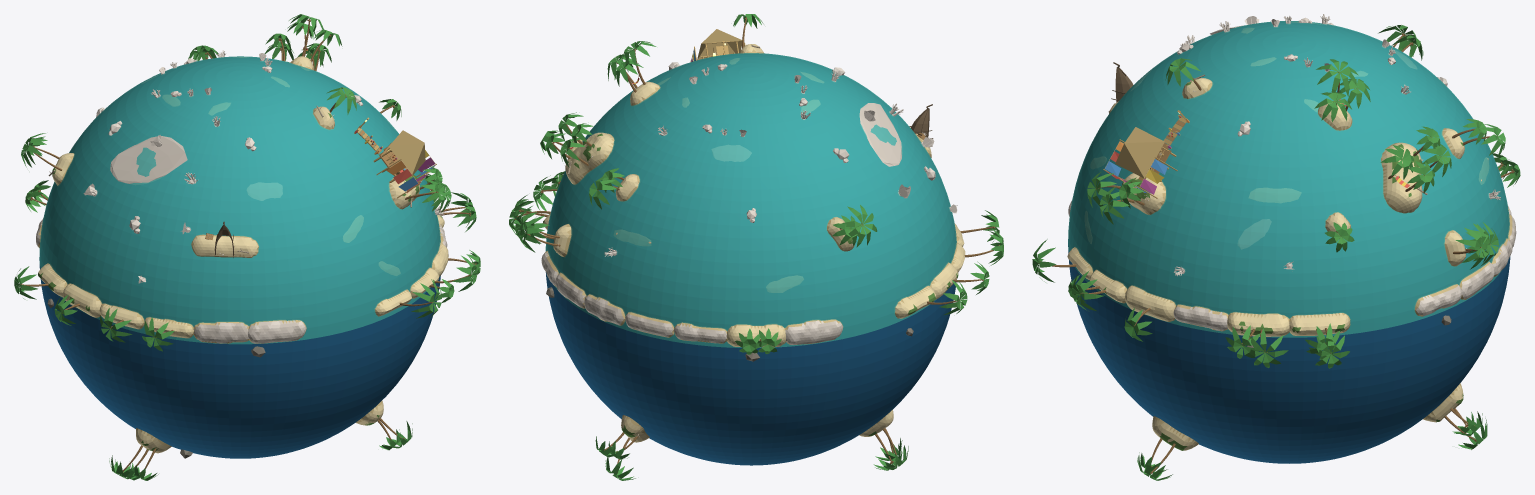
Rendered from w_004-reef.glb.
The picture shows the model from 3 angles, left to right: view 1: azimuth 30°, elevation 25°; view 2: azimuth 150°, elevation 25°; view 3: azimuth 270°, elevation 25°; orthographic projection. The views are drawn at different scales.
Parts seen in each view (by area): view 1: Sea_Lagoon, Water, Sea_Deep, Lagoon_Coral_Flat_01, Island_shipwreck-shoal, Island_ring-07, Marisol_House, Island_ring-08, Island_ring-11, Island_ring-10, Island_ring-09, Palm_08 (+7 smaller); view 2: Sea_Lagoon, Water, Sea_Deep, Lagoon_Coral_Flat_01, Island_palm-key-1, Island_ring-13, Island_ring-15, Island_ring-16, Island_ring-17, Island_ring-14, Marisol_House, Island_ring-12 (+3 smaller); view 3: Sea_Lagoon, Water, Sea_Deep, Island_palm-key-1, Marisol_House, Island_ring-02, Island_ring-01, Island_ring-04, Island_ring-03, Island_ring-19, Island_marisol-key, Island_far-key-2 (+19 smaller).
Part boxes in pixels (<box>): Sea_Lagoon: <box>39,56,440,344</box>; Water: <box>41,58,439,343</box>; Sea_Deep: <box>39,260,440,458</box>; Lagoon_Coral_Flat_01: <box>110,136,187,184</box>; Island_shipwreck-shoal: <box>191,234,258,257</box>; Island_ring-07: <box>248,320,306,343</box>; Marisol_House: <box>379,130,425,176</box>; Island_ring-08: <box>193,322,248,343</box>; Island_ring-11: <box>63,283,101,317</box>; Island_ring-10: <box>99,303,144,329</box>; Island_ring-09: <box>144,317,193,338</box>; Palm_08: <box>399,279,441,318</box>; Sea_Lagoon: <box>545,53,956,347</box>; Water: <box>547,54,955,347</box>; Sea_Deep: <box>545,272,955,465</box>; Lagoon_Coral_Flat_01: <box>859,103,901,166</box>; Island_palm-key-1: <box>565,132,614,184</box>; Island_ring-13: <box>785,319,843,345</box>; Island_ring-15: <box>674,322,727,343</box>; Island_ring-16: <box>625,312,674,337</box>; Island_ring-17: <box>584,294,625,325</box>; Island_ring-14: <box>726,324,785,347</box>; Marisol_House: <box>697,29,742,60</box>; Island_ring-12: <box>894,285,936,318</box>; Sea_Lagoon: <box>1068,21,1509,337</box>; Water: <box>1069,22,1508,336</box>; Sea_Deep: <box>1068,242,1510,463</box>; Island_palm-key-1: <box>1381,142,1422,213</box>; Marisol_House: <box>1115,127,1171,178</box>; Island_ring-02: <box>1227,312,1289,336</box>; Island_ring-01: <box>1289,313,1350,335</box>; Island_ring-04: <box>1125,285,1175,321</box>; Island_ring-03: <box>1173,304,1228,331</box>; Island_ring-19: <box>1414,284,1461,316</box>; Island_marisol-key: <box>1122,173,1165,214</box>; Island_far-key-2: <box>1152,416,1198,450</box>.
Size of the model in its own units: 12.51 by 10.72 by 11.06.
